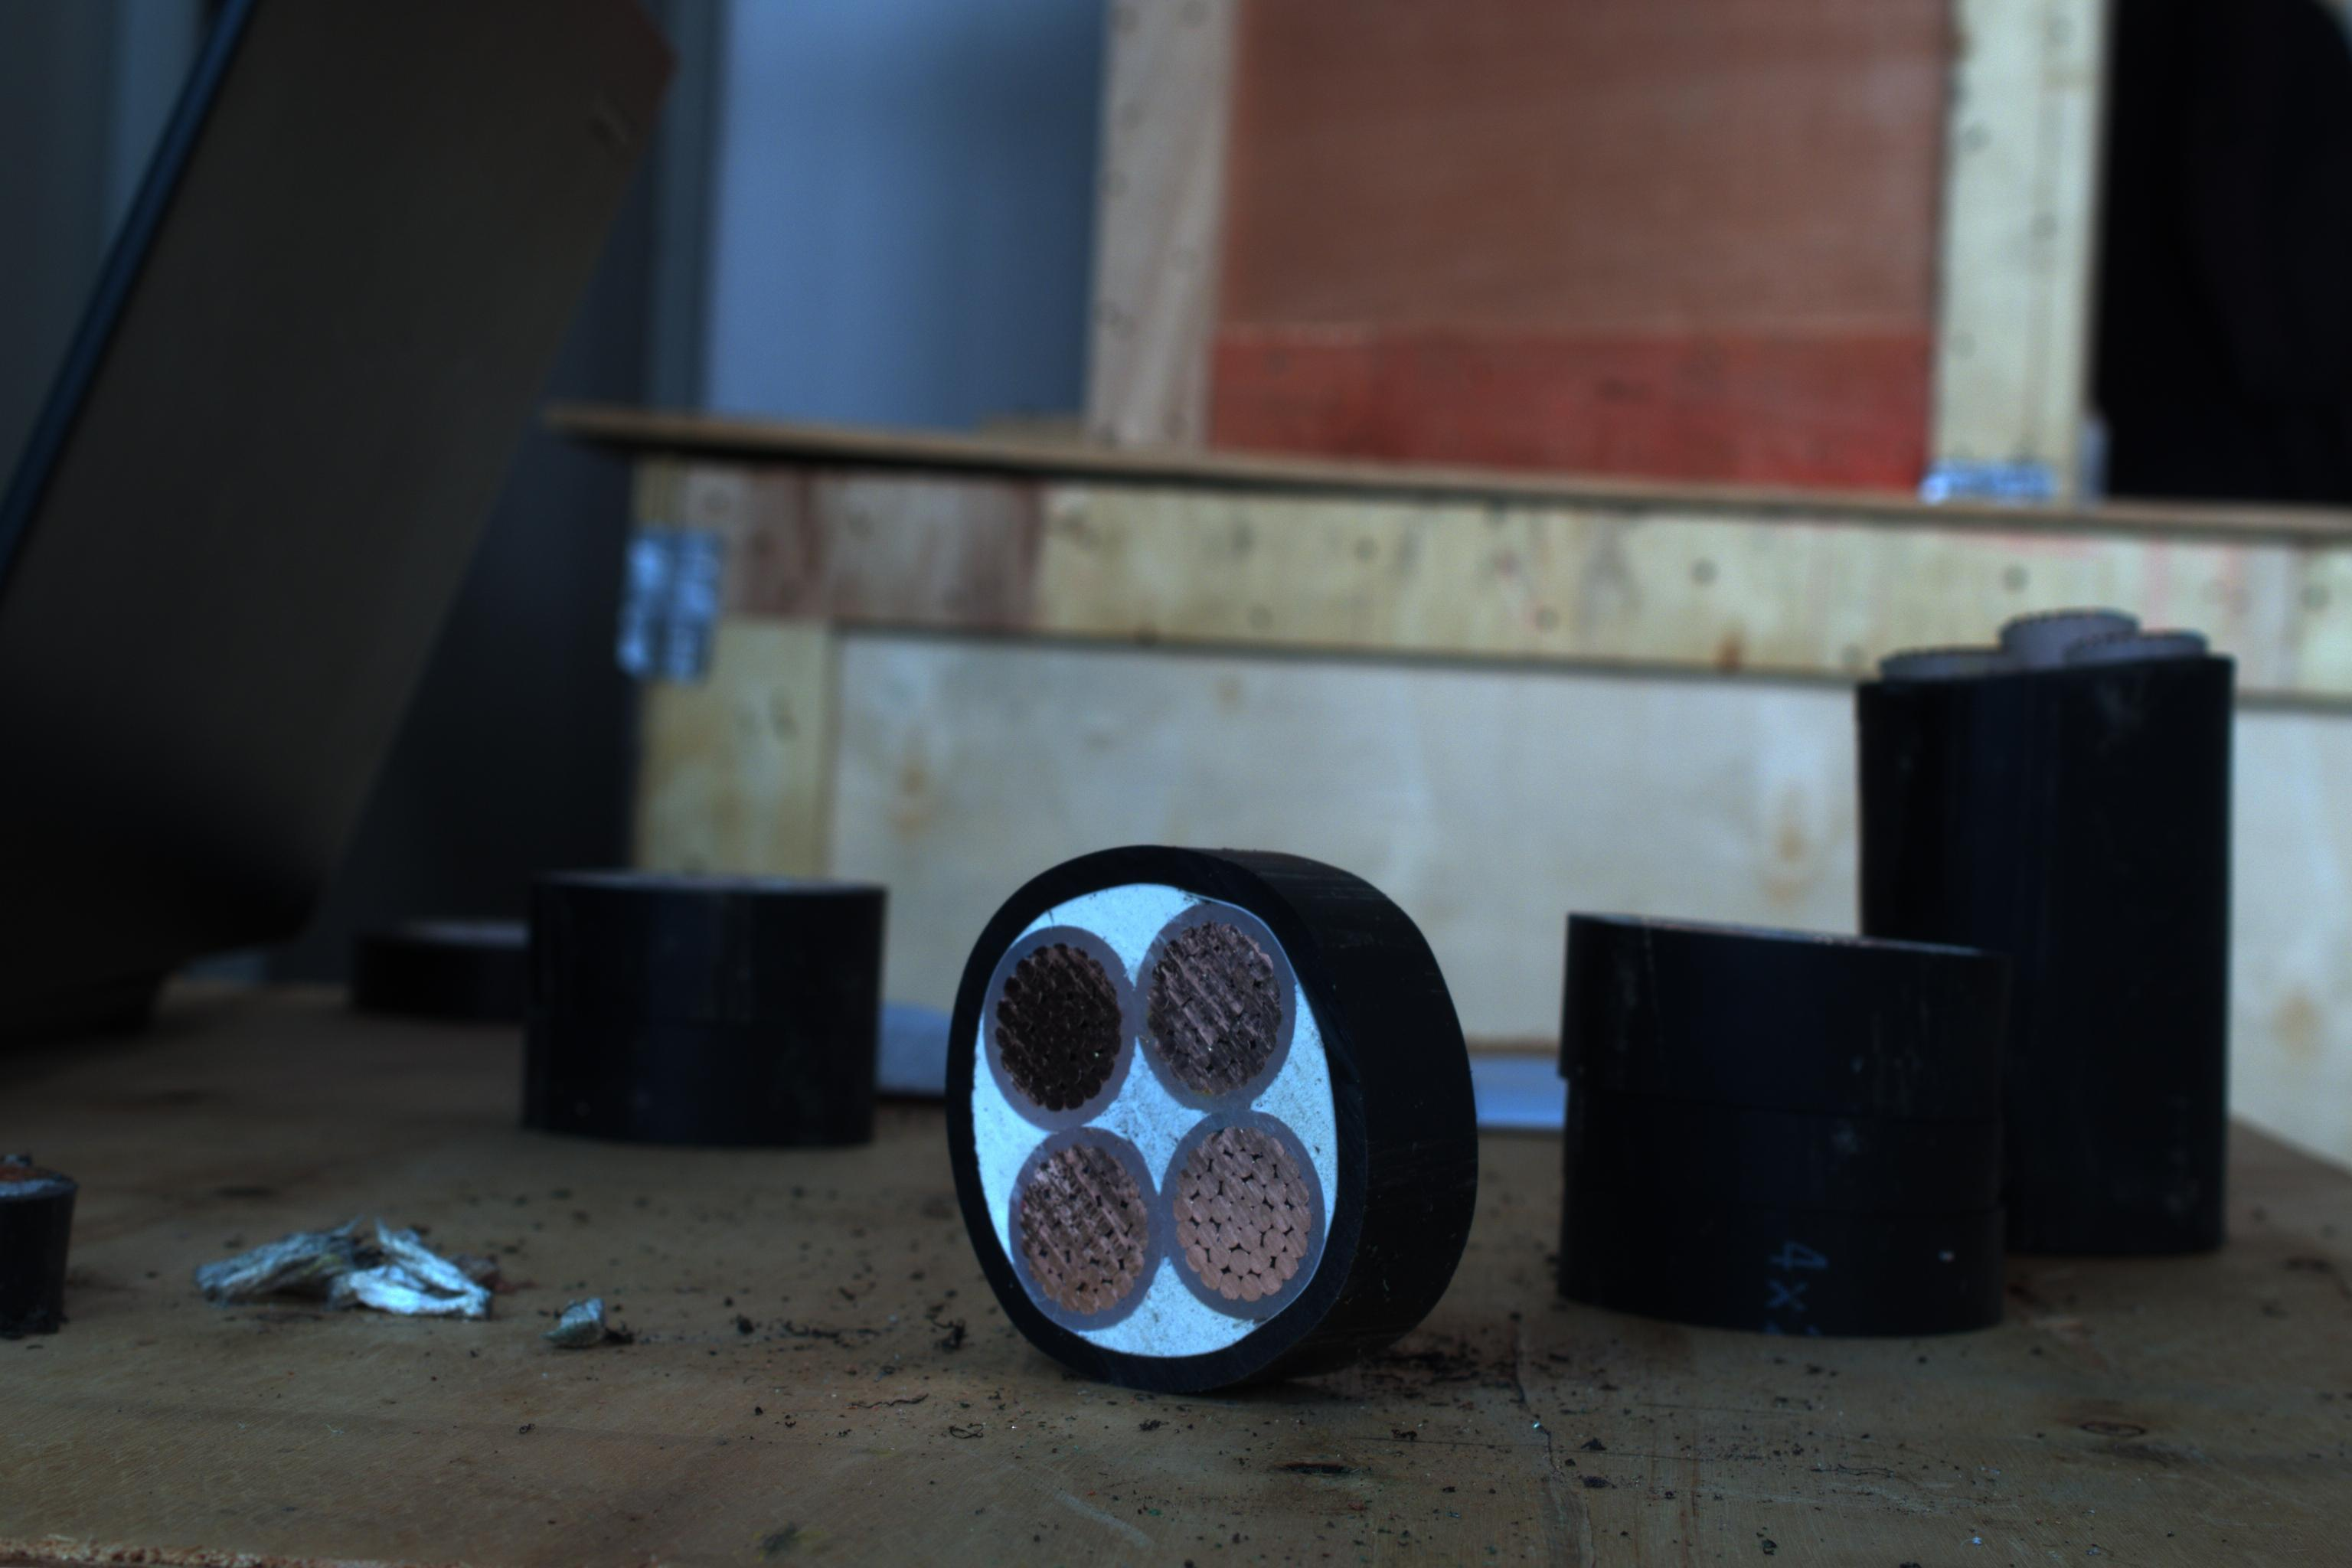YJV_0.6_1kV_4x240: (924, 845, 1374, 1382)
